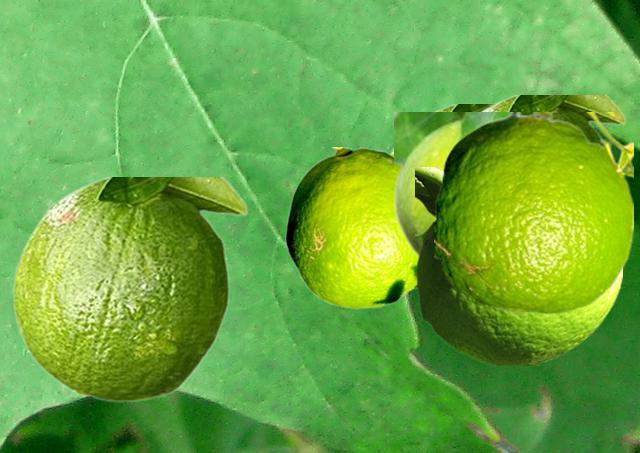dalandan: (12, 177, 247, 401), (415, 167, 621, 364), (434, 112, 632, 313), (285, 147, 416, 308), (394, 112, 527, 258), (471, 95, 625, 140), (388, 104, 490, 154)
